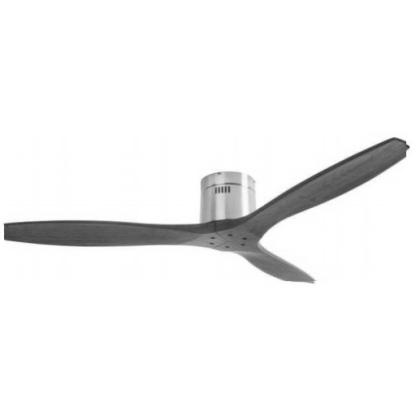ceiling-fan: (4, 136, 407, 282)
